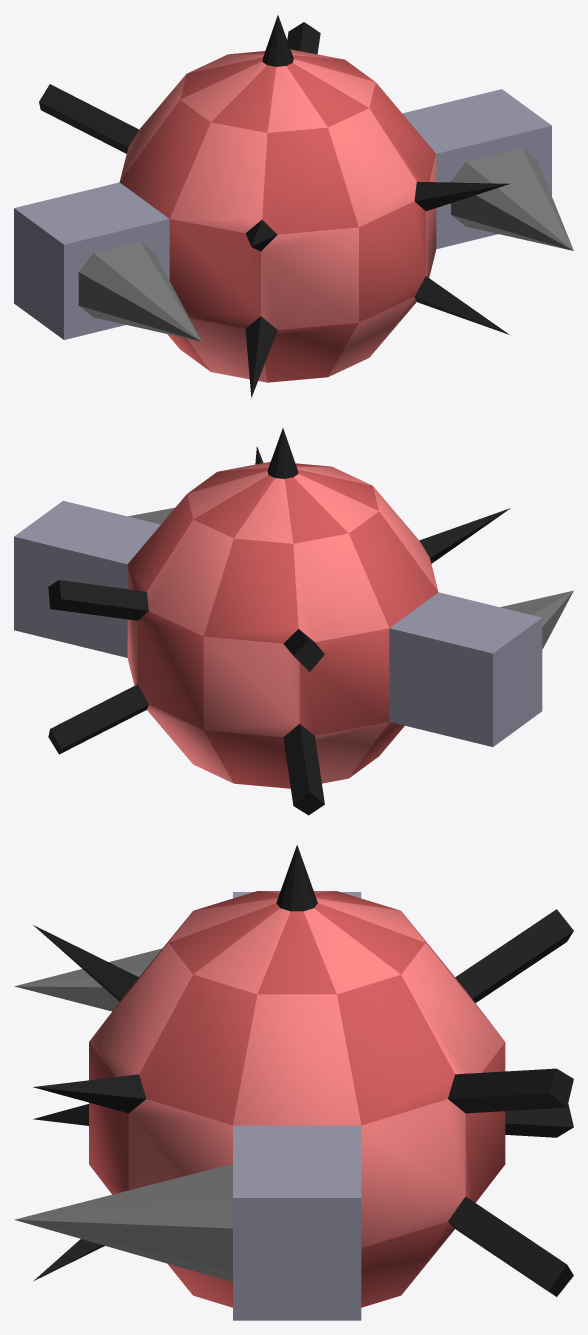
Rendered from Xphere_001.FBX.
3 renders of one model, top to bottom at view 1: azimuth 30°, elevation 25°; view 2: azimuth 150°, elevation 25°; view 3: azimuth 270°, elevation 25°, orthographic. The views are drawn at different scales.
Parts seen in each view (by area): view 1: Sphere001; view 2: Sphere001; view 3: Sphere001.
Part boxes in pixels (bbox=[...]): Sphere001: bbox=[14, 15, 573, 397]; Sphere001: bbox=[14, 428, 573, 815]; Sphere001: bbox=[14, 844, 573, 1320].
Size of the model in its own units: 13.03 by 9.08 by 10.07.
